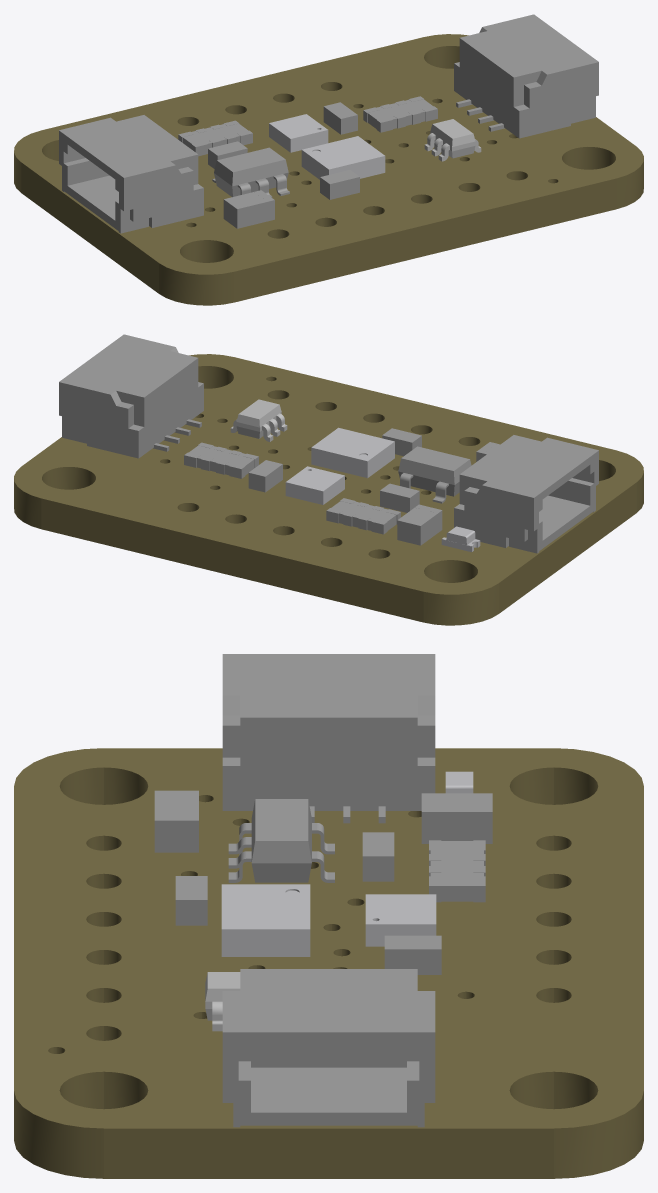
File: ada-5543.glb
3 renders of one model, top to bottom at view 1: azimuth 30°, elevation 25°; view 2: azimuth 150°, elevation 25°; view 3: azimuth 270°, elevation 25°, orthographic. The views are drawn at different scales.
Visible parts, largest first — view 1: 0.16666666666666666_0.16666666666666666_0.08333333333333333_, 0.3333333333333333_0.3333333333333333_0.3333333333333333_0, 0.5833333333333334_0.5833333333333334_0.5833333333333334_0.8, 0.5_0.5_0.5_0.85; view 2: 0.16666666666666666_0.16666666666666666_0.08333333333333333_, 0.3333333333333333_0.3333333333333333_0.3333333333333333_0, 0.5833333333333334_0.5833333333333334_0.5833333333333334_0.8, 0.5_0.5_0.5_0.85; view 3: 0.16666666666666666_0.16666666666666666_0.08333333333333333_, 0.3333333333333333_0.3333333333333333_0.3333333333333333_0, 0.5833333333333334_0.5833333333333334_0.5833333333333334_0.8, 0.5_0.5_0.5_0.85.
Part boxes in pixels (<box>): 0.16666666666666666_0.16666666666666666_0.08333333333333333_: <box>14,34,643,305</box>; 0.3333333333333333_0.3333333333333333_0.3333333333333333_0: <box>59,14,598,233</box>; 0.5833333333333334_0.5833333333333334_0.5833333333333334_0.8: <box>269,114,385,179</box>; 0.5_0.5_0.5_0.85: <box>424,119,481,161</box>; 0.16666666666666666_0.16666666666666666_0.08333333333333333_: <box>14,354,643,625</box>; 0.3333333333333333_0.3333333333333333_0.3333333333333333_0: <box>59,334,598,553</box>; 0.5833333333333334_0.5833333333333334_0.5833333333333334_0.8: <box>285,427,480,552</box>; 0.5_0.5_0.5_0.85: <box>230,399,287,441</box>; 0.16666666666666666_0.16666666666666666_0.08333333333333333_: <box>14,748,643,1178</box>; 0.3333333333333333_0.3333333333333333_0.3333333333333333_0: <box>154,654,492,1127</box>; 0.5833333333333334_0.5833333333333334_0.5833333333333334_0.8: <box>221,771,473,956</box>; 0.5_0.5_0.5_0.85: <box>205,972,240,1031</box>.
Bounding box in the file's own units: 2.54 × 0.4529 × 1.78.
